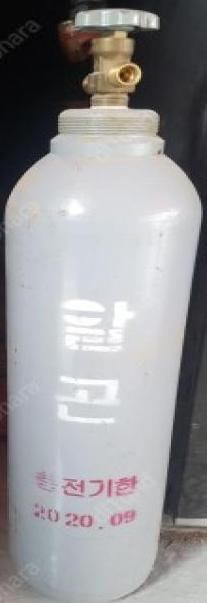cylinder: (0, 1, 207, 603)
